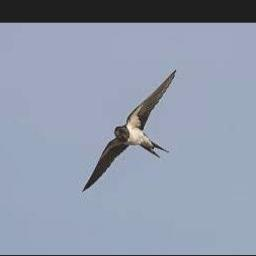Swallow: (82, 69, 178, 193)
